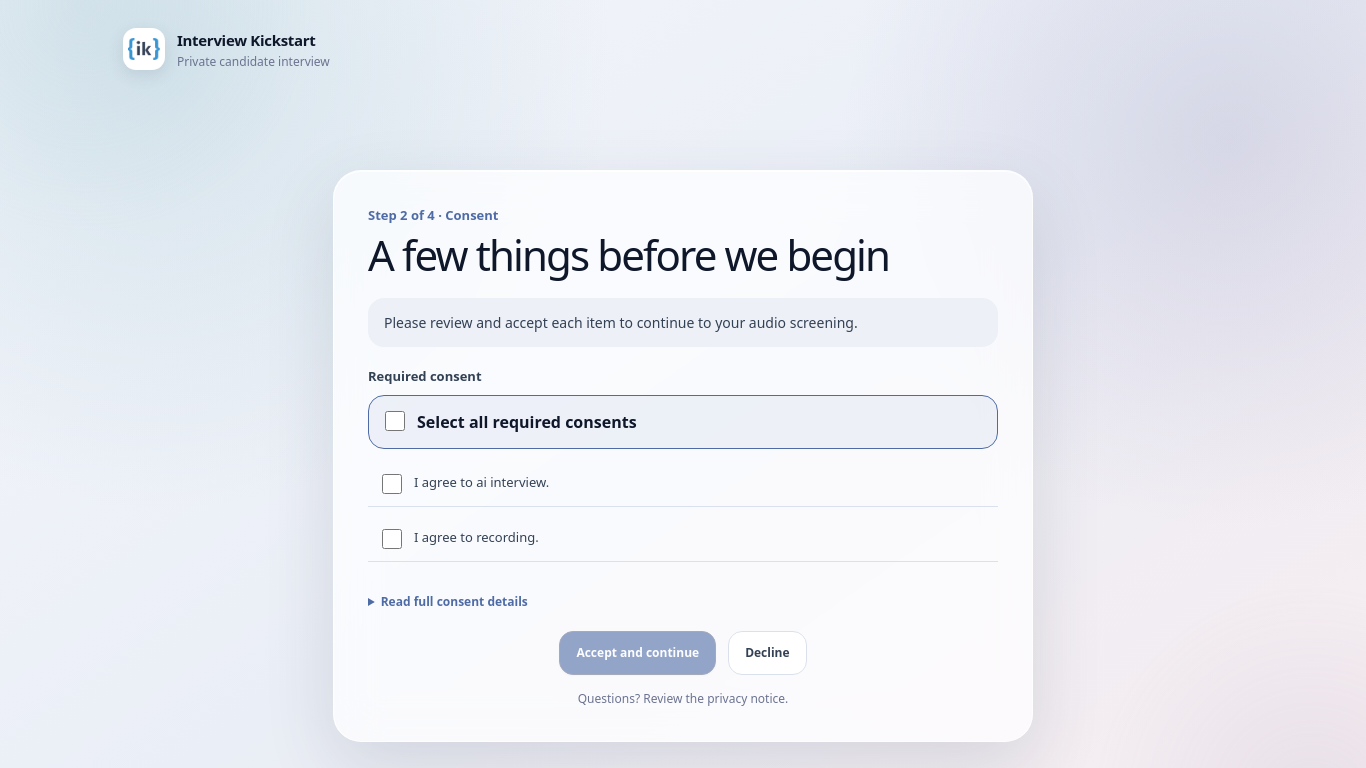
CandidateJoinPage › grant submits granted consent with exactly the checked types, then enables join
Click the checkbox labelled "ai interview". click: (392,484)
box: [382,474,402,494]
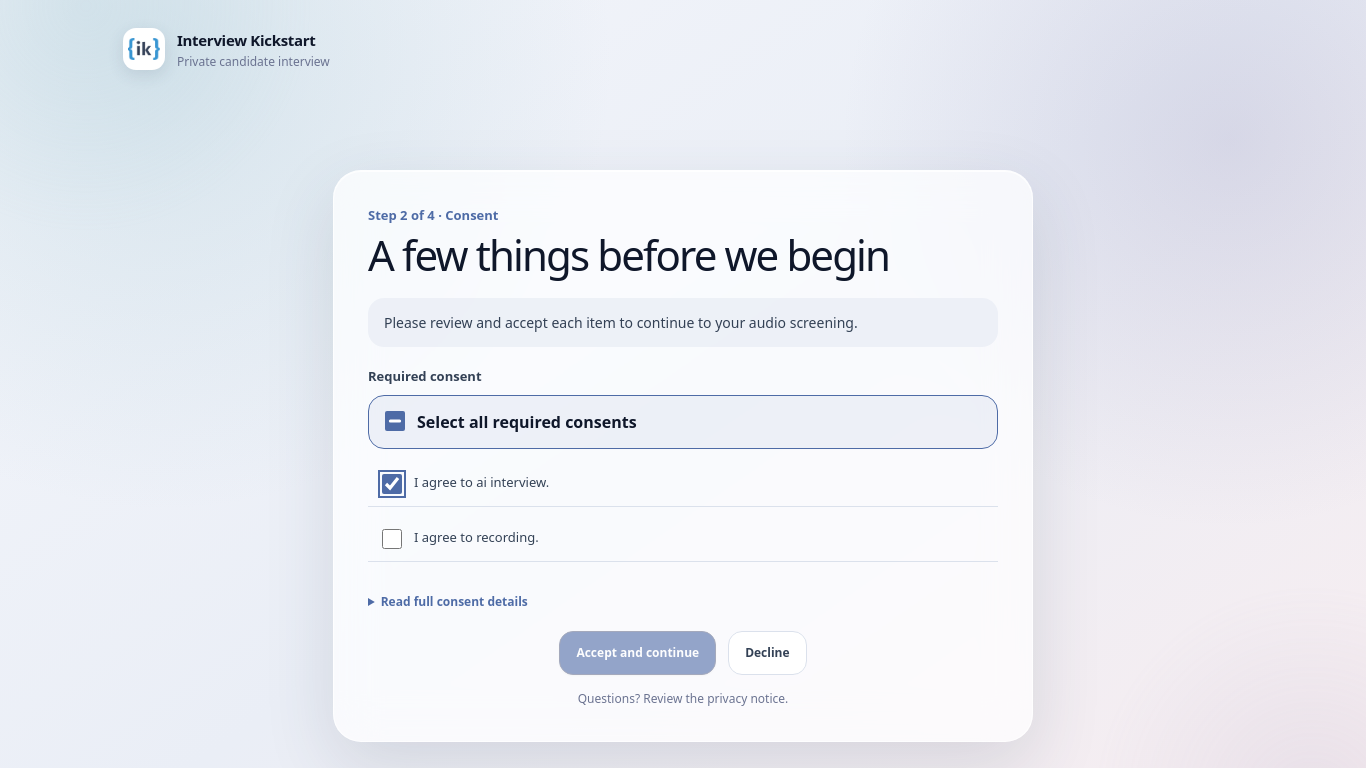
Click the checkbox labelled "recording". click: (392,539)
box: [382,529,402,549]
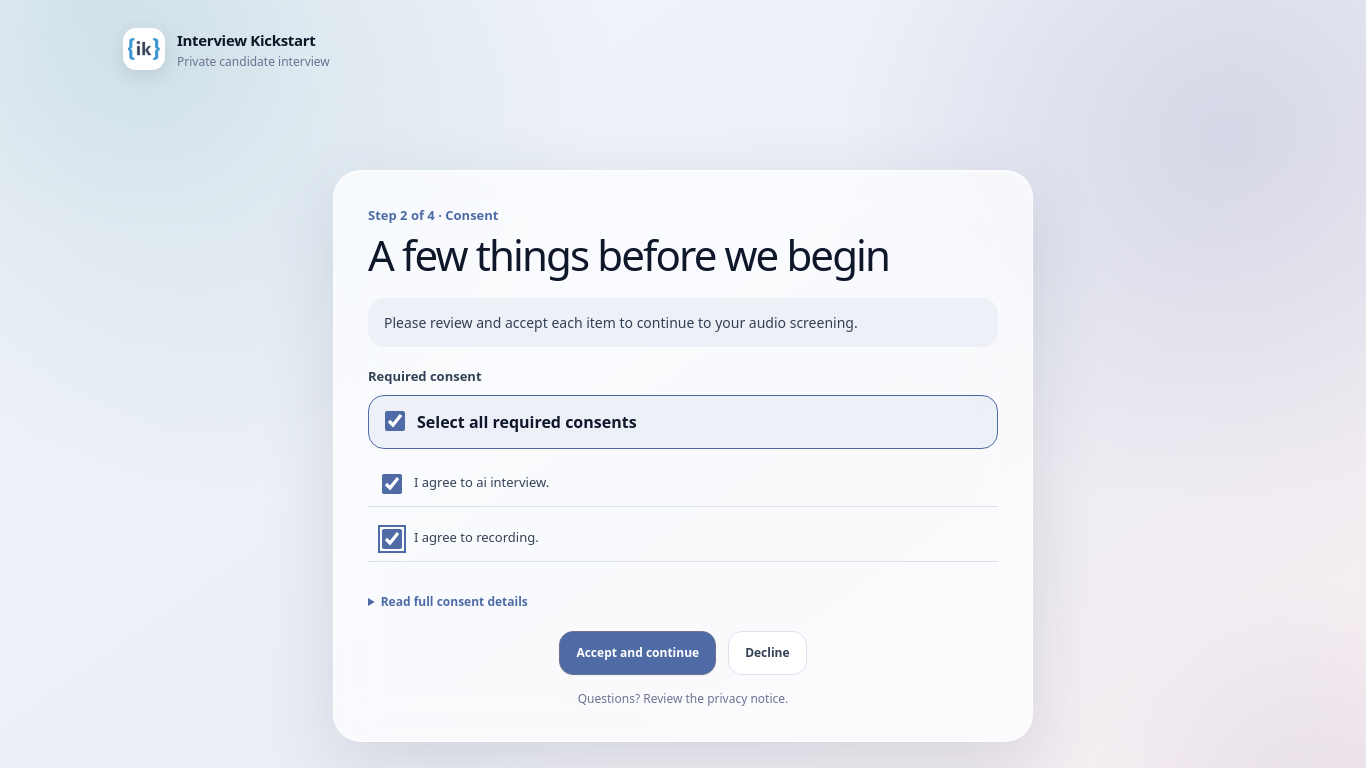
Click the button "Accept and continue". click: (638,653)
box: [559,631,716,675]
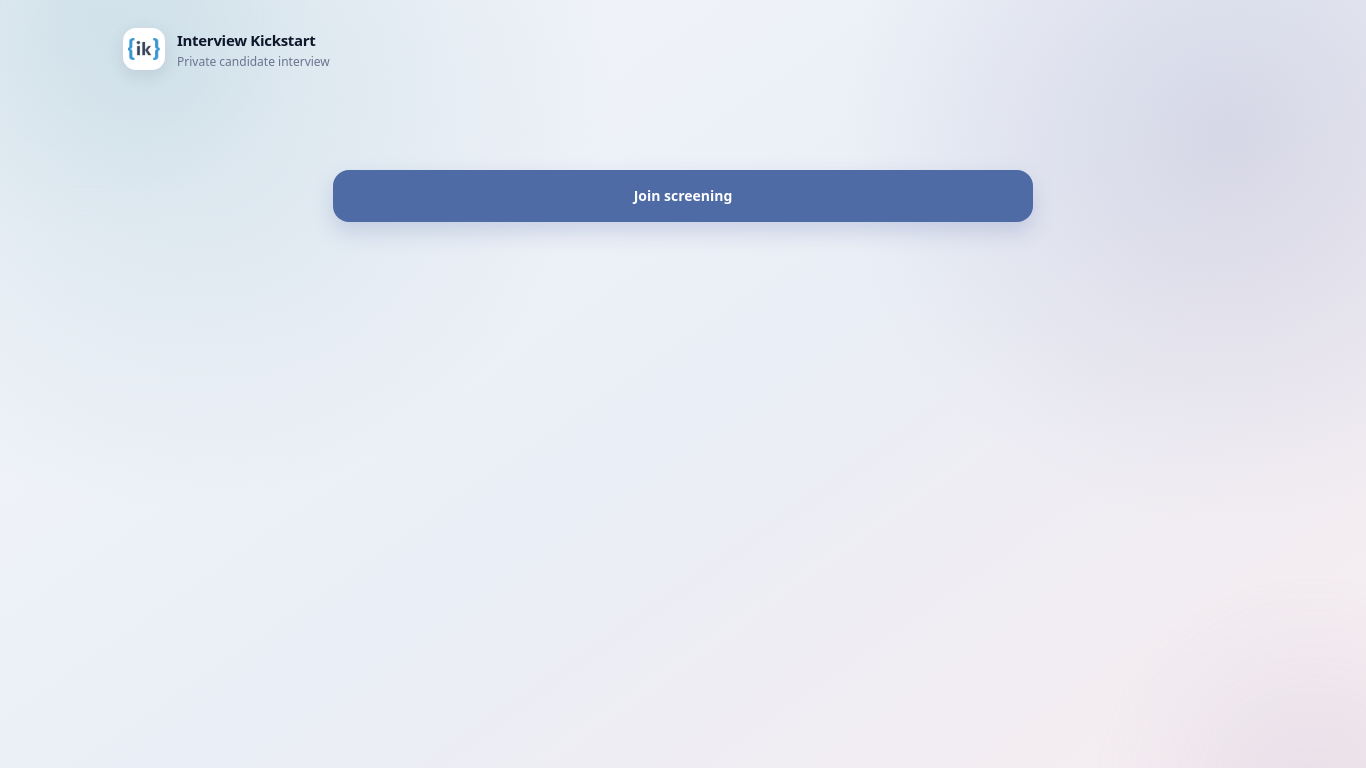
Result: the button "Join screening" is shown at [333,170,1033,222]
